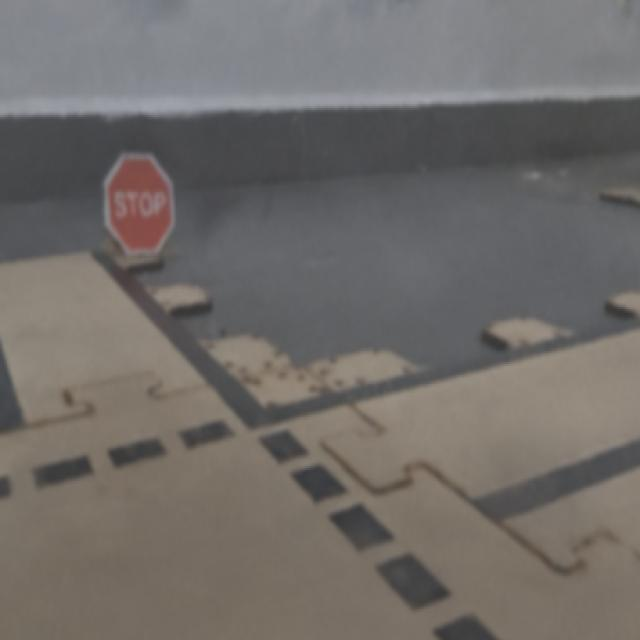STOP: (105, 154, 172, 252)
